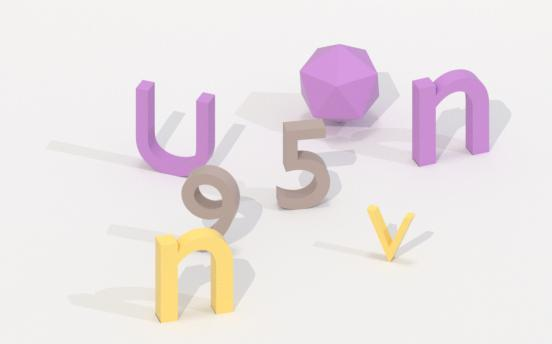5: (275, 119, 331, 215)
9: (181, 159, 241, 255)
dagiac: (300, 42, 382, 128)
n: (403, 65, 495, 169), (150, 229, 238, 325)
u: (132, 71, 218, 180)
v: (364, 196, 417, 266)
